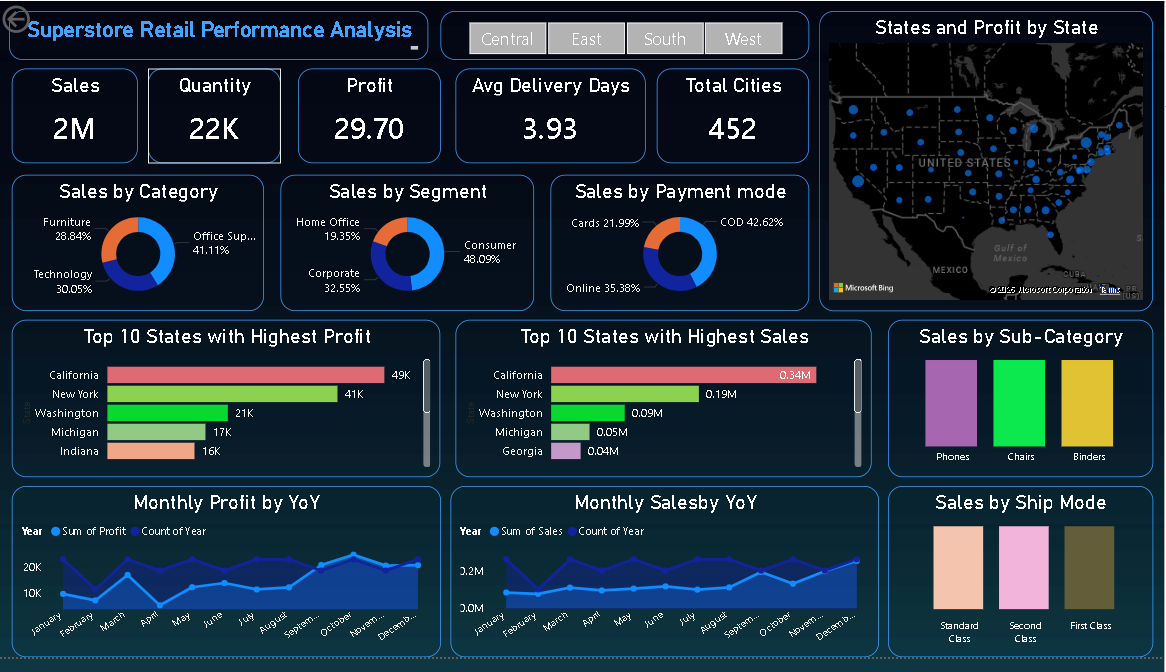

What the dashboard file says about the page in this screenshot:
{"tool":"powerbi","page":{"name":"Page 1","canvas":[1280,720],"ordinal":0},"visuals":[{"type":"textbox","title":"Superstore Retail Performance Analysis","box":[12.3,11,462.4,53.5],"z":0},{"type":"cardVisual","title":"Sales","fields":{"Data":["Sum(SuperStore_Sales_Dataset.Sales)"]},"box":[15.1,74.1,138.6,104.3],"z":1000},{"type":"cardVisual","title":"Quantity","fields":{"Data":["Sum(SuperStore_Sales_Dataset.Quantity)"]},"box":[164.7,74.1,145.5,104.3],"z":2000},{"type":"cardVisual","title":"Profit","fields":{"Data":["Avg(SuperStore_Sales_Dataset.Profit)"]},"box":[329.3,74.1,156.4,104.3],"z":3000},{"type":"cardVisual","title":"Avg Delivery Days","fields":{"Data":["Avg(SuperStore_Sales_Dataset.Delivery days)"]},"box":[502.2,74.1,230.5,104.3],"z":4000},{"type":"cardVisual","title":"Total Cities","fields":{"Data":["Count(SuperStore_Sales_Dataset.City)"]},"box":[749.2,74.1,141.3,104.3],"z":5000},{"type":"slicer","fields":{"Values":["SuperStore_Sales_Dataset.Region"]},"box":[485.8,11,404.8,53.5],"z":6000},{"type":"actionButton","box":[0,0,100,40],"z":7000},{"type":"map","title":"States and Profit by State","fields":{"Category":["SuperStore_Sales_Dataset.State"],"Size":["Sum(SuperStore_Sales_Dataset.Profit)"],"X":["Count(SuperStore_Sales_Dataset.State)"]},"box":[901.5,11,366.4,329.3],"z":8000},{"type":"donutChart","title":"Sales by Category","fields":{"Y":["Sum(SuperStore_Sales_Dataset.Sales)"],"Category":["SuperStore_Sales_Dataset.Category"]},"box":[15.1,190.7,277.2,149.6],"z":9000},{"type":"donutChart","title":"Sales by Segment","fields":{"Y":["Sum(SuperStore_Sales_Dataset.Sales)"],"Category":["SuperStore_Sales_Dataset.Segment"]},"box":[310.1,190.7,278.6,149.6],"z":10000},{"type":"donutChart","title":"Sales by Payment mode","fields":{"Y":["Sum(SuperStore_Sales_Dataset.Sales)"],"Category":["SuperStore_Sales_Dataset.Payment Mode"]},"box":[606.5,190.7,284,149.6],"z":11000},{"type":"clusteredBarChart","title":"Top 10 States with Highest Profit","fields":{"Category":["SuperStore_Sales_Dataset.State"],"Y":["Sum(SuperStore_Sales_Dataset.Profit)"]},"box":[15.1,349.9,470.7,172.9],"z":12000},{"type":"clusteredBarChart","title":"Top 10 States with Highest Sales","fields":{"Category":["SuperStore_Sales_Dataset.State"],"Y":["Sum(SuperStore_Sales_Dataset.Sales)"]},"box":[502.2,349.9,456.9,172.9],"z":13000},{"type":"hundredPercentStackedColumnChart","title":"Sales by Sub-Category","fields":{"Category":["SuperStore_Sales_Dataset.Sub-Category"],"Y":["Sum(SuperStore_Sales_Dataset.Sales)"]},"box":[977,349.9,290.9,172.9],"z":14000},{"type":"hundredPercentStackedColumnChart","title":"Sales by Ship Mode","fields":{"Category":["SuperStore_Sales_Dataset.Ship Mode"],"Y":["Sum(SuperStore_Sales_Dataset.Sales)"]},"box":[977,532.4,290.9,188],"z":15000},{"type":"areaChart","title":"Monthly Profit by YoY","fields":{"Category":["SuperStore_Sales_Dataset.Ship Date.Variation.Date Hierarchy.Month"],"Y":["Sum(SuperStore_Sales_Dataset.Profit)"],"Y2":["CountNonNull(SuperStore_Sales_Dataset.Ship Date.Variation.Date Hierarchy.Year)"]},"box":[15,532,471,188],"z":16000},{"type":"areaChart","title":"Monthly Salesby YoY","fields":{"Category":["SuperStore_Sales_Dataset.Ship Date.Variation.Date Hierarchy.Month"],"Y2":["CountNonNull(SuperStore_Sales_Dataset.Ship Date.Variation.Date Hierarchy.Year)"],"Y":["Sum(SuperStore_Sales_Dataset.Sales)"]},"box":[496.7,532.4,470.7,188],"z":17000}]}

Visuals, with their boxes in screenshot pixels (x1, y1, x2, y2), scaled from the page's 1280x720 canvas onto the 1166x672 screenshot:
"Superstore Retail Performance Analysis" textbox: detection(11, 10, 432, 60)
"Sales" cardVisual: detection(14, 69, 140, 167)
"Quantity" cardVisual: detection(150, 69, 283, 167)
"Profit" cardVisual: detection(300, 69, 442, 167)
"Avg Delivery Days" cardVisual: detection(457, 69, 667, 167)
"Total Cities" cardVisual: detection(682, 69, 811, 167)
slicer - SuperStore_Sales_Dataset.Region: detection(443, 10, 811, 60)
actionButton: detection(0, 0, 91, 37)
"States and Profit by State" map: detection(821, 10, 1155, 318)
"Sales by Category" donutChart: detection(14, 178, 266, 318)
"Sales by Segment" donutChart: detection(282, 178, 536, 318)
"Sales by Payment mode" donutChart: detection(552, 178, 811, 318)
"Top 10 States with Highest Profit" clusteredBarChart: detection(14, 327, 443, 488)
"Top 10 States with Highest Sales" clusteredBarChart: detection(457, 327, 874, 488)
"Sales by Sub-Category" hundredPercentStackedColumnChart: detection(890, 327, 1155, 488)
"Sales by Ship Mode" hundredPercentStackedColumnChart: detection(890, 497, 1155, 671)
"Monthly Profit by YoY" areaChart: detection(14, 497, 443, 671)
"Monthly Salesby YoY" areaChart: detection(452, 497, 881, 671)
